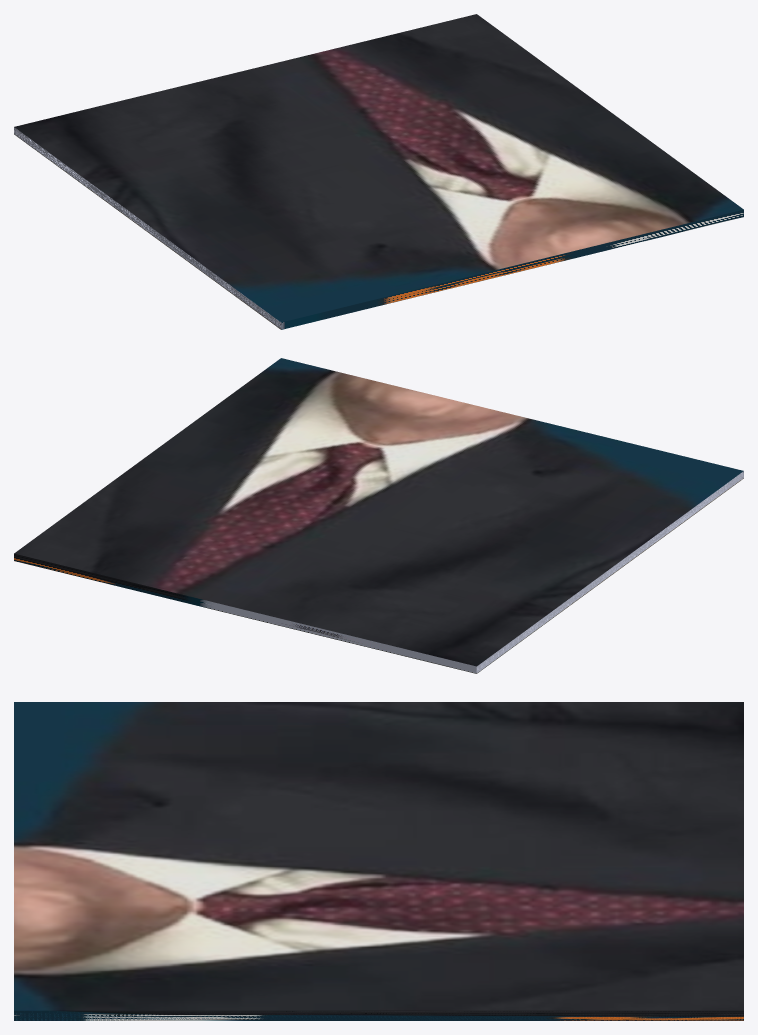
Rendered from floor.glb.
The picture shows the model from 3 angles, top to bottom: view 1: azimuth 30°, elevation 25°; view 2: azimuth 150°, elevation 25°; view 3: azimuth 270°, elevation 25°; orthographic projection. The views are drawn at different scales.
Visible parts, largest first — view 1: Cube; view 2: Cube; view 3: Cube.
Part boxes in pixels (box(x1,y1,x2,y2)): Cube: box(14, 14, 743, 329); Cube: box(14, 358, 743, 673); Cube: box(14, 702, 743, 1020).
Size of the model in its own units: 11.94 by 0.1841 by 11.94.
Materials: 1 (1 with a texture image).
